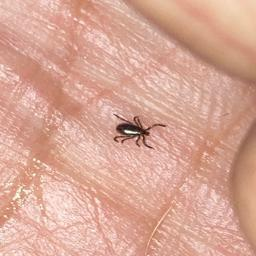Ixodes scapularis: (114, 114, 166, 149)
